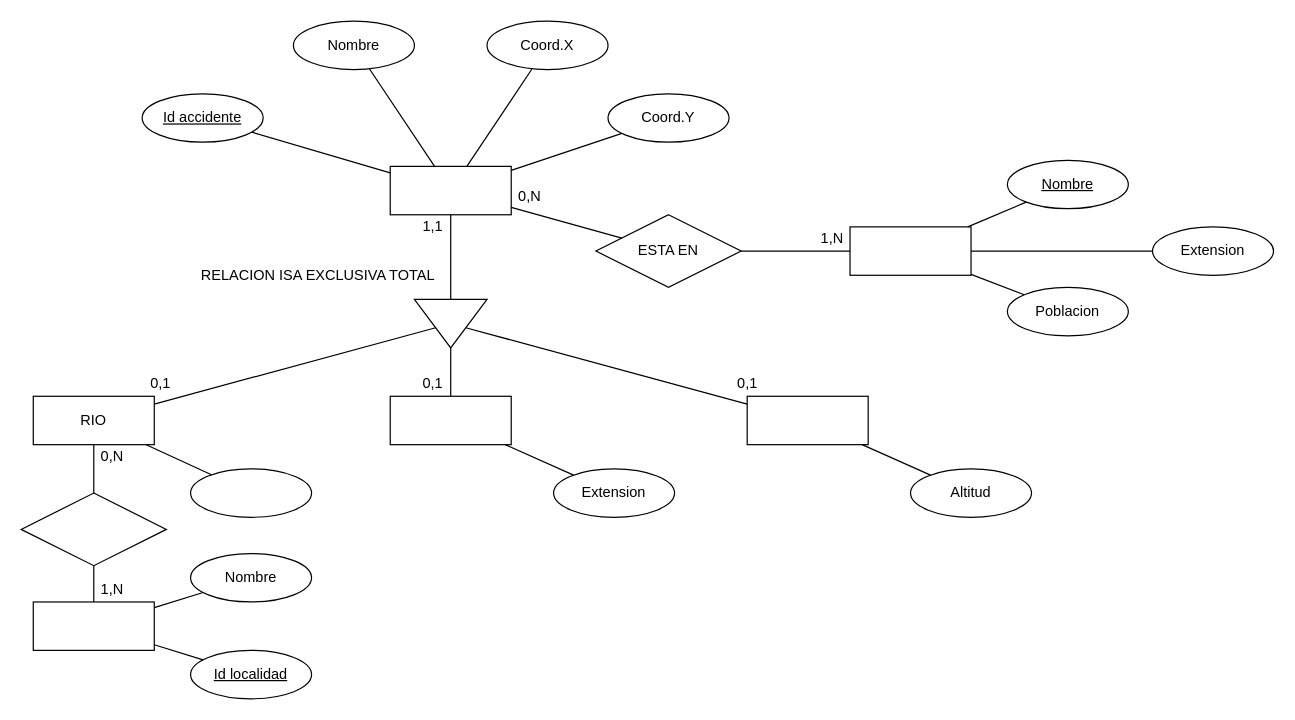
Some shapes in this 1295 by 720 pixel diagram are drawn without their labels. Here are the shapes that lost their labels. From the top down, the centre of each, then its label:
(450,190): ACCIDENTE
(910,250): PAIS
(450,420): LAGO
(807,420): MONTAÑA
(250,492): Longitud
(93,529): PASA POR
(93,625): LOCALIDAD
